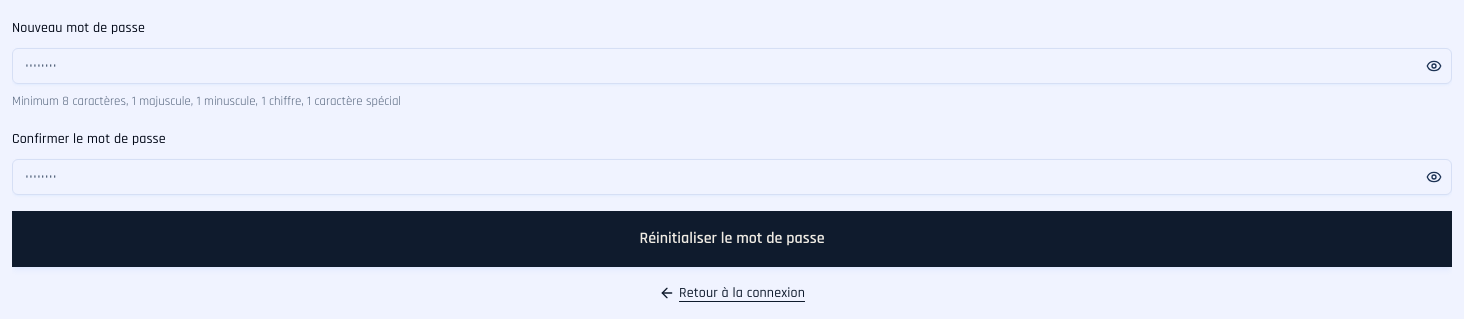
ResetPasswordForm › Soumission › shows success message on successful reset
Type "NewPassword123!" into the password field with placeholder "••••••••" below "Nouveau mot de passe".
click(732, 66); type("NewPassword123!")  # box top-left (12, 48), bottom-right (1452, 84)
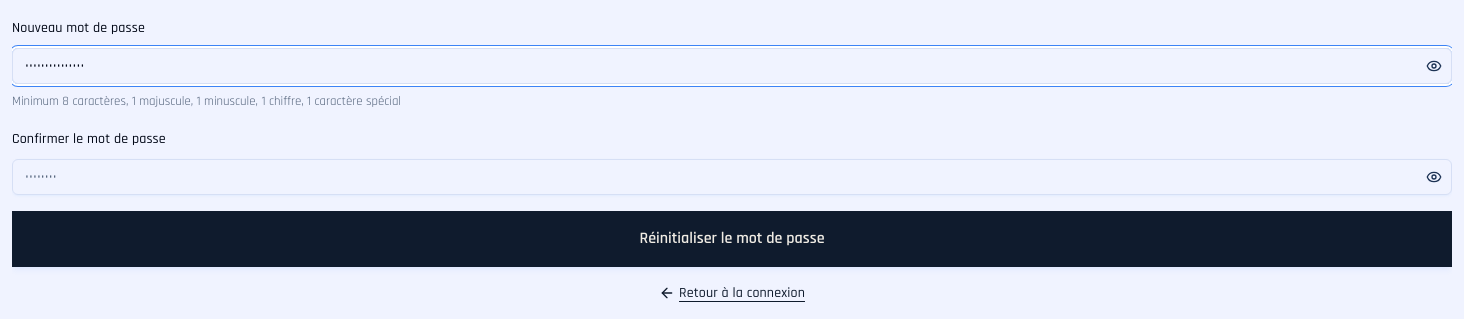
Type "NewPassword123!" into the password field with placeholder "••••••••".
click(732, 177); type("NewPassword123!")  # box top-left (12, 159), bottom-right (1452, 195)
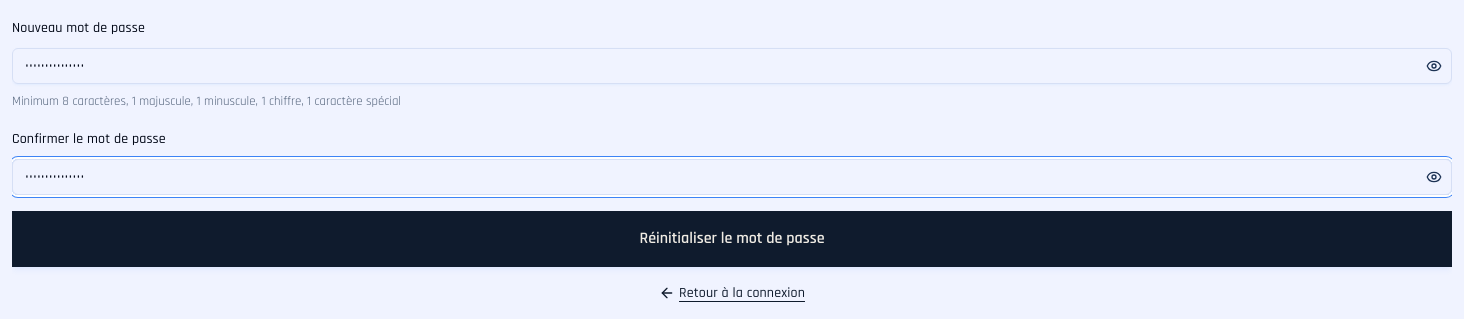
Click the button "Réinitialiser le mot de passe".
click(732, 239)  # box top-left (12, 211), bottom-right (1452, 267)
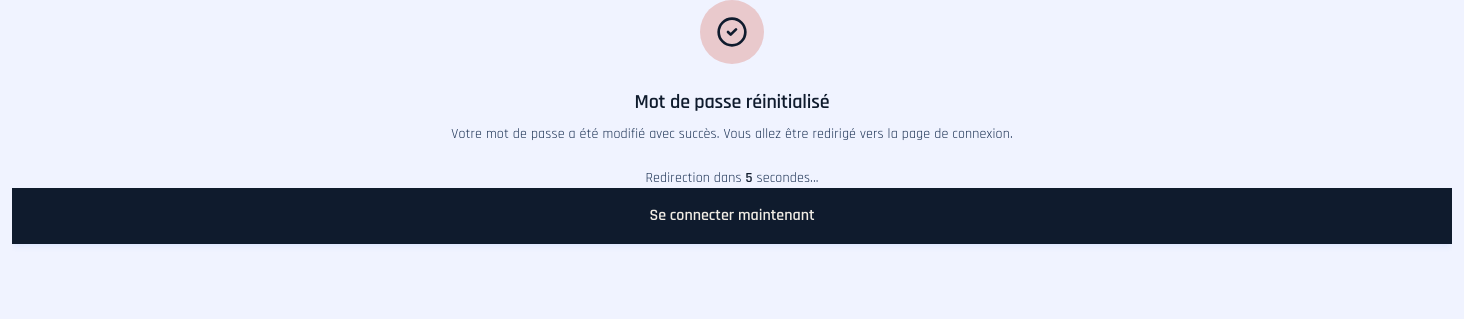
Check: the heading "Mot de passe réinitialisé" is shown, box top-left (635, 89), bottom-right (829, 115)
